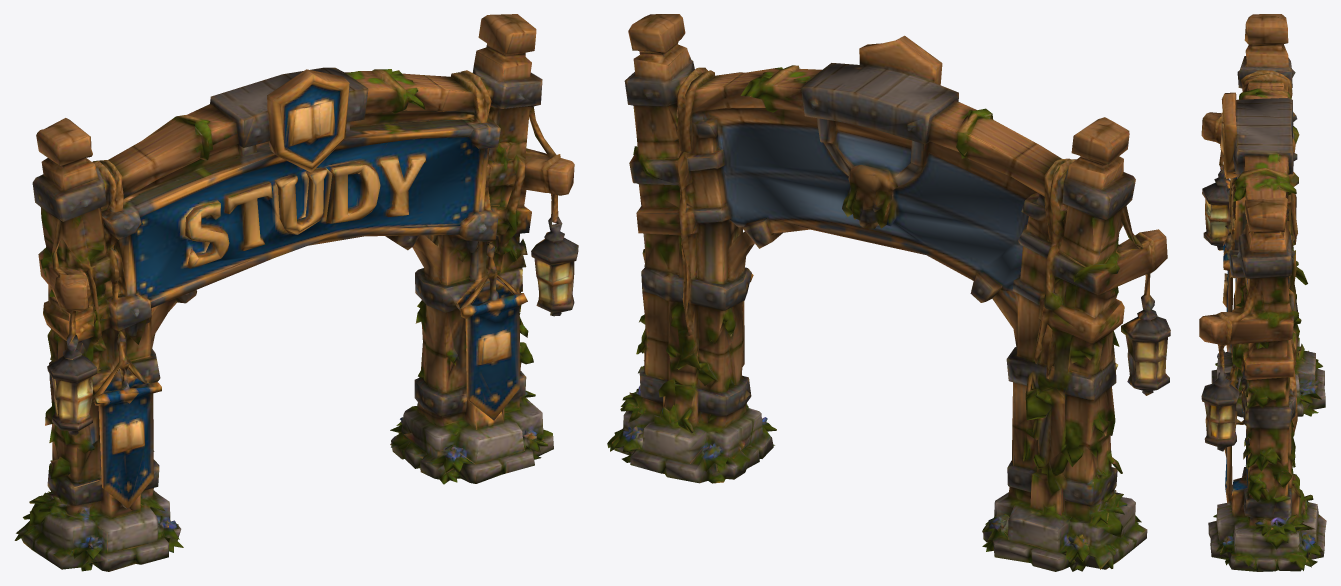
Rendered from arch-study.glb.
3 renders of one model, left to right at view 1: azimuth 30°, elevation 25°; view 2: azimuth 150°, elevation 25°; view 3: azimuth 270°, elevation 25°, orthographic. The views are drawn at different scales.
Parts seen in each view (by area): view 1: Mesh1.0; view 2: Mesh1.0; view 3: Mesh1.0.
Part boxes in pixels (x1,y1,x2,y2): Mesh1.0: [14, 14, 578, 571]; Mesh1.0: [607, 14, 1170, 571]; Mesh1.0: [1199, 14, 1326, 571].
Size of the model in its own units: 1.9 by 1.53 by 0.4682.
Materials: 1 (1 with a texture image).
